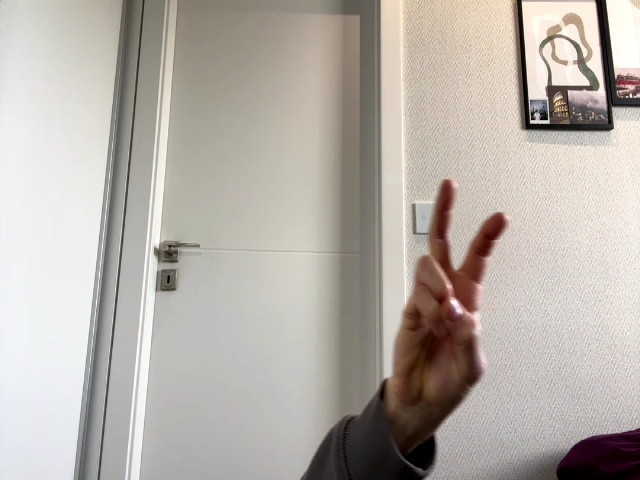H: (393, 179, 509, 413)
